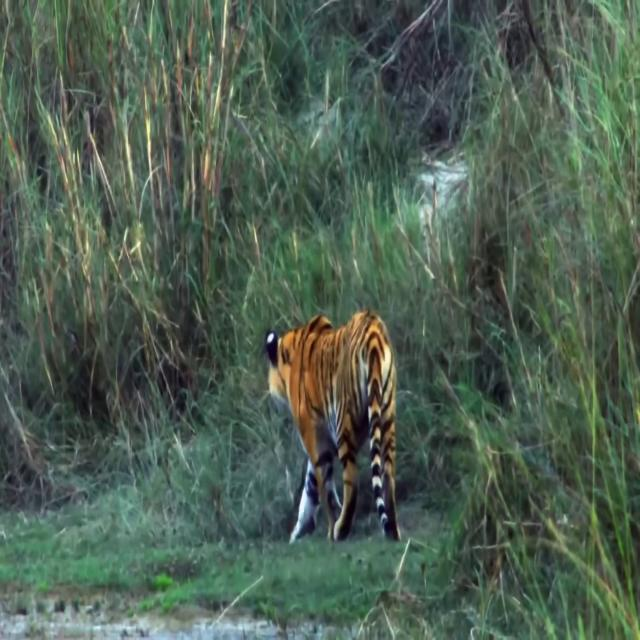tiger: (265, 308, 401, 544)
